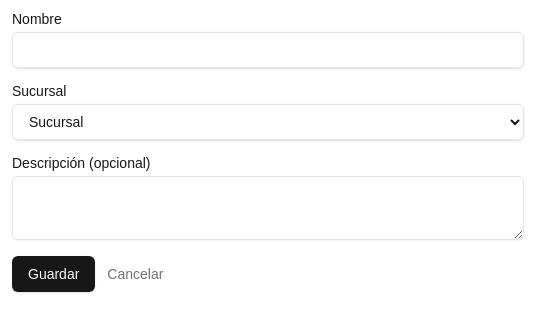
it: BarberForm — field errors and focus › should_render_the_locationId_error_on_the_select_and_move_focus_to_the_error_region
In the field labelled "Nombre": x=268, y=50 [12,32,524,68], type "Juan"
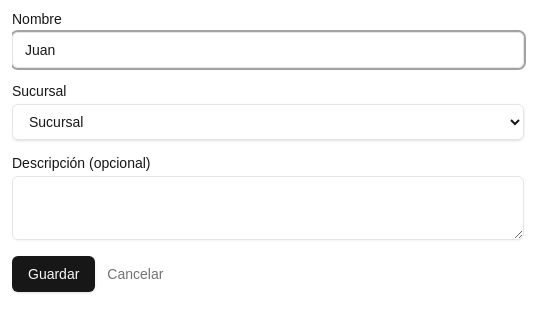
Select "Sucursal Centro" in the dropdown labelled "Sucursal": x=268, y=122 [12,104,524,140]
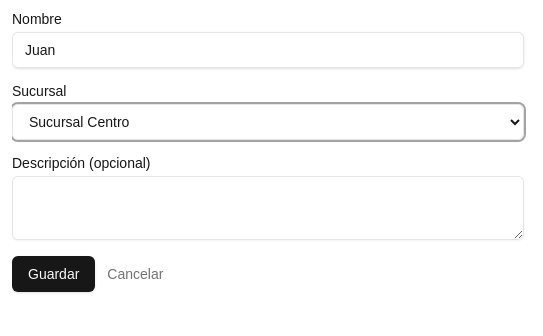
Click the button "Guardar": x=54, y=274 [12,256,95,292]
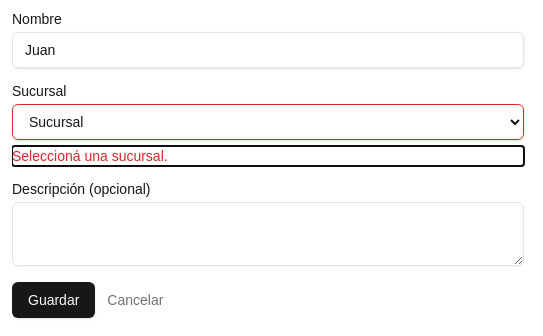
Expected: the message reads "Seleccioná una sucursal.", [12,148,168,164]
